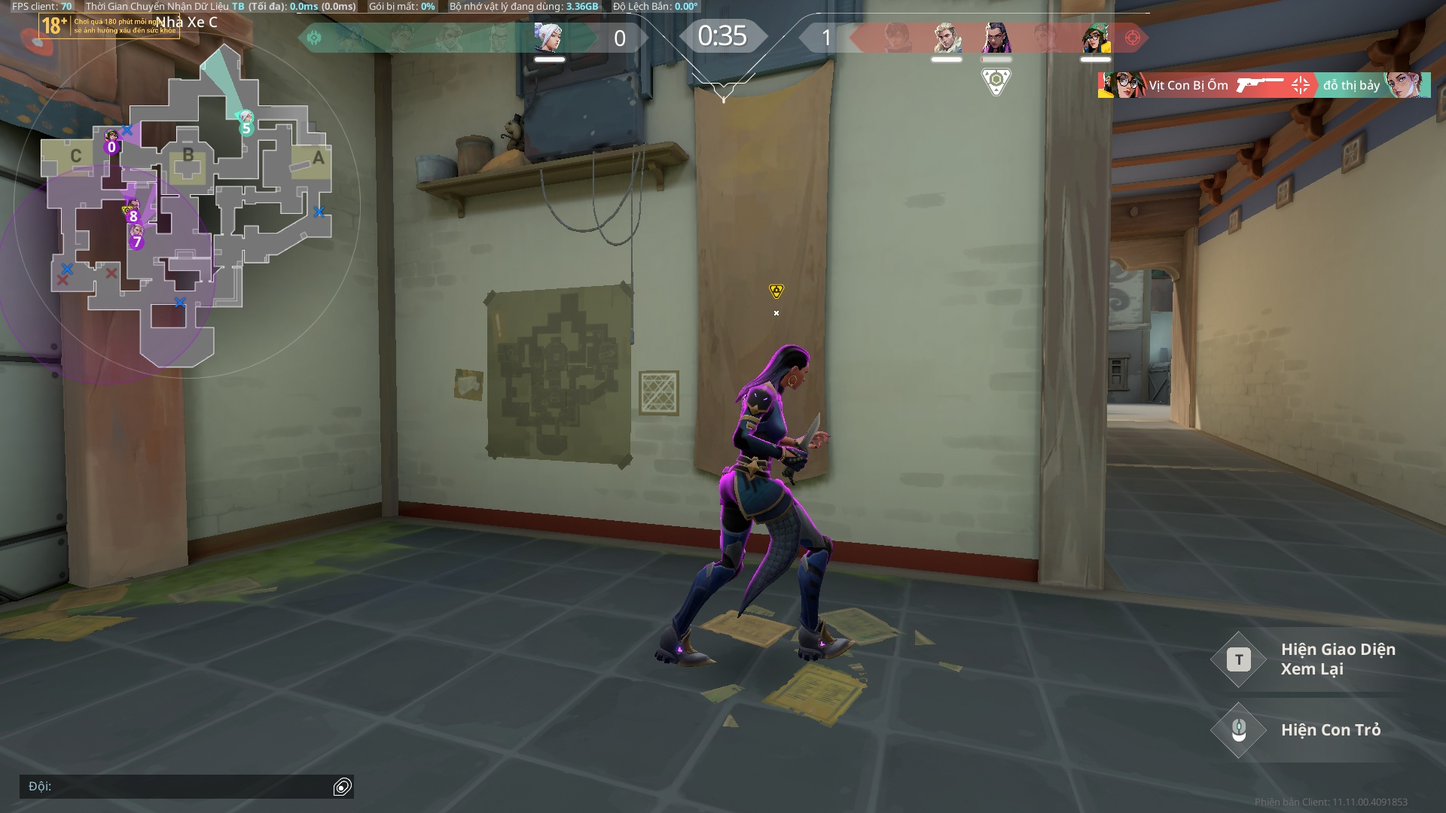body: (738, 377, 789, 458)
head: (773, 340, 810, 388)
